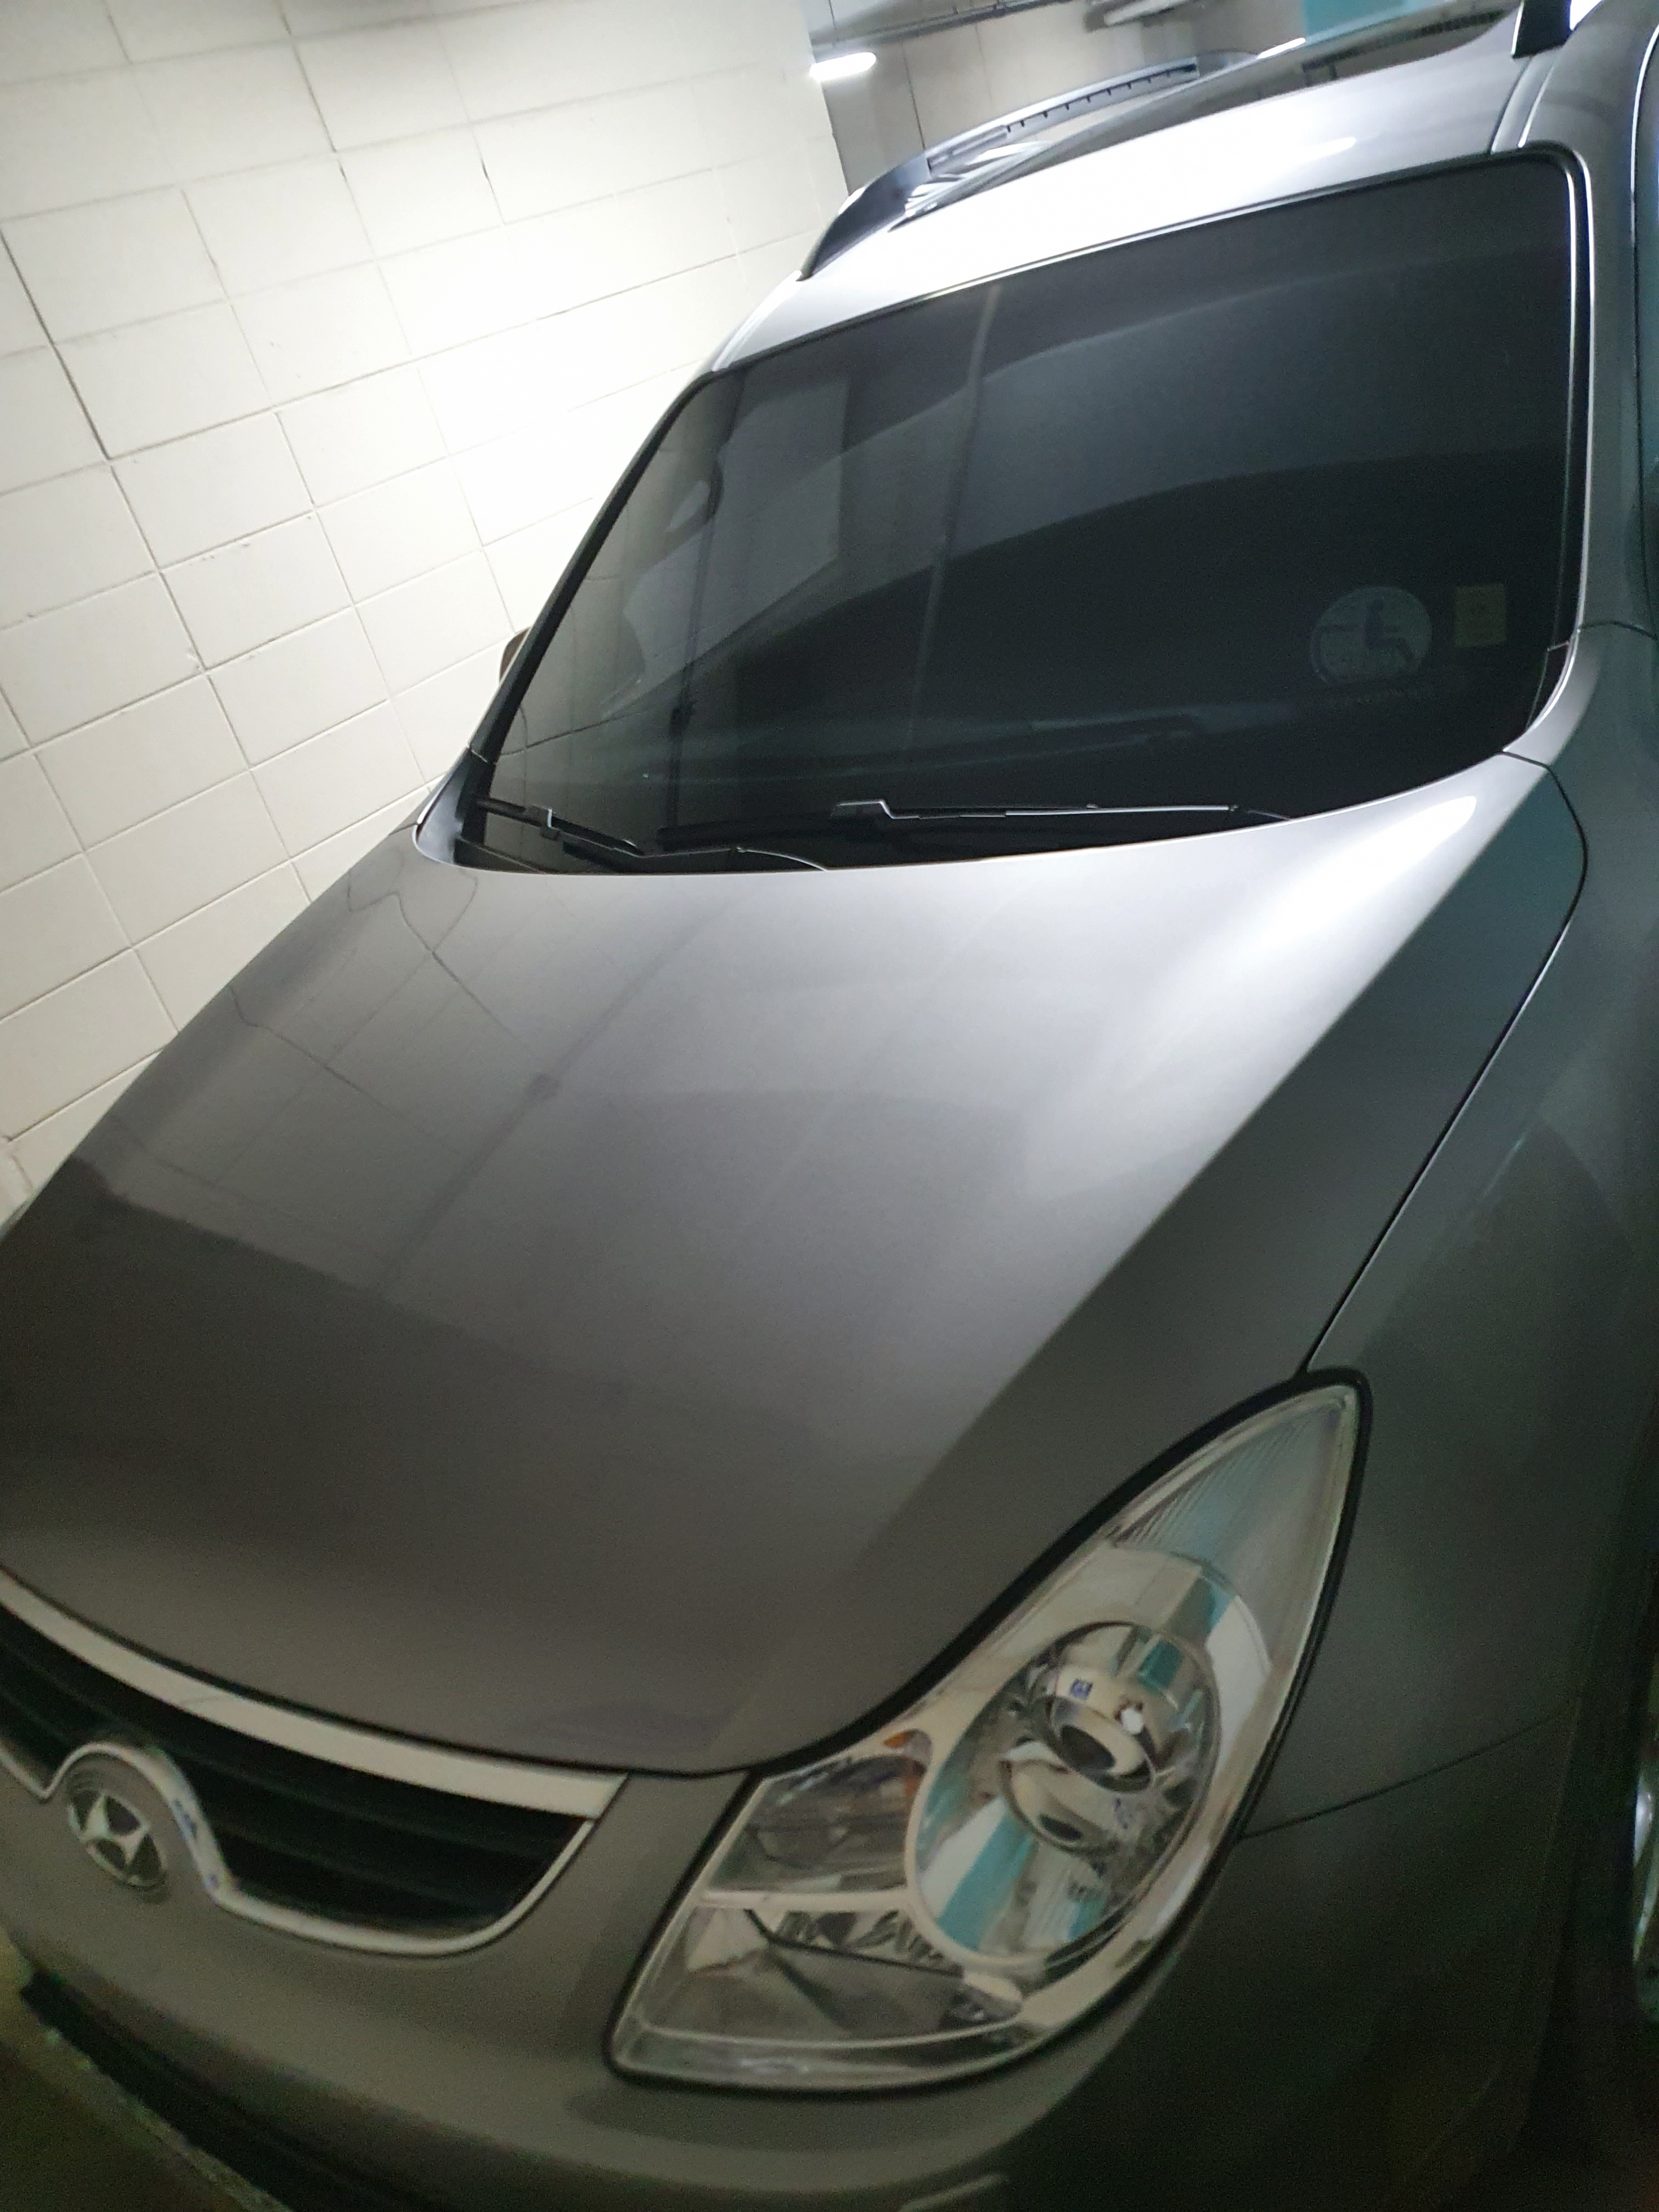disabled_parking: (1307, 587, 1439, 679)
